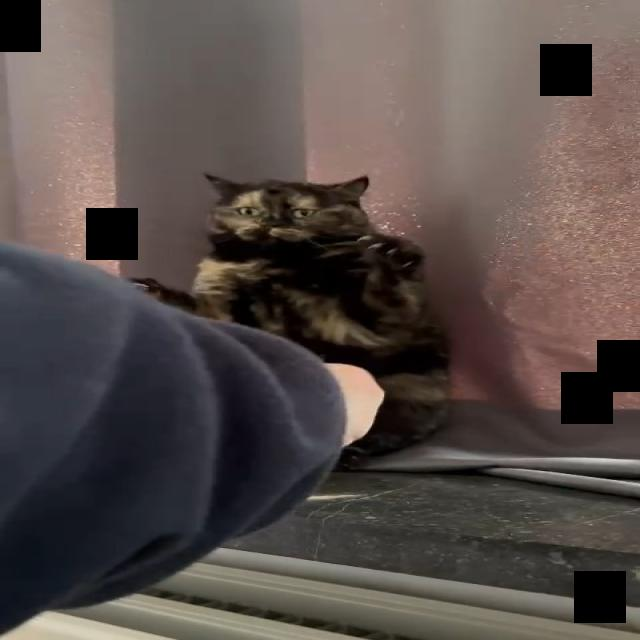authorized: (128, 172, 452, 469)
